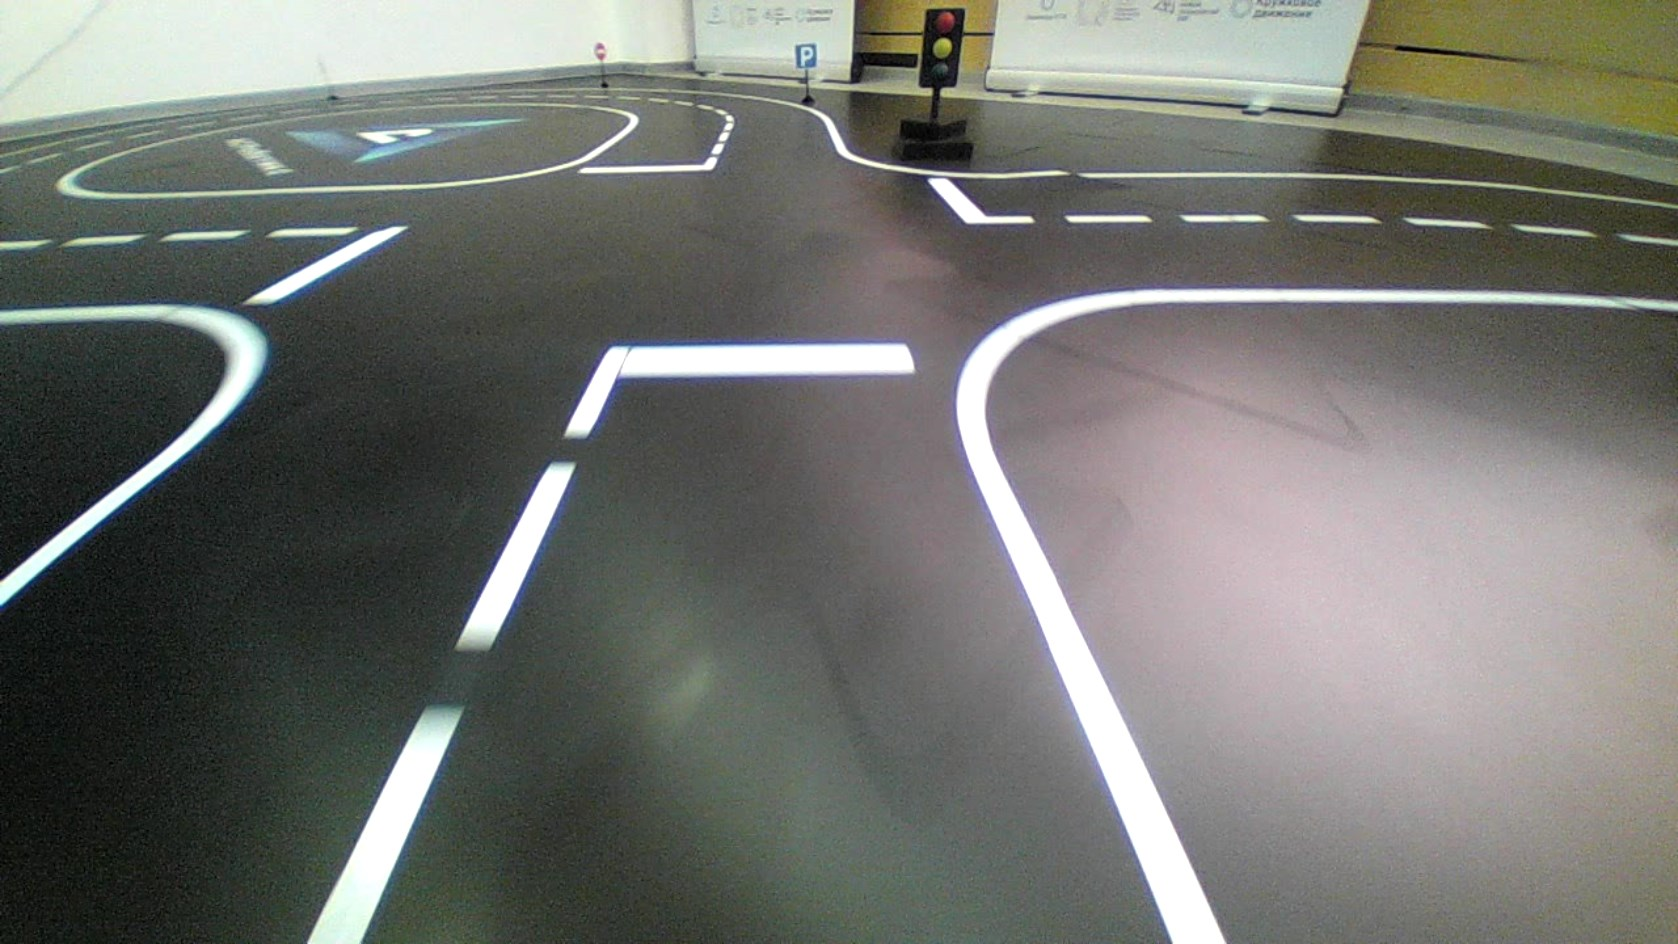trafficlight: (919, 7, 966, 89)
